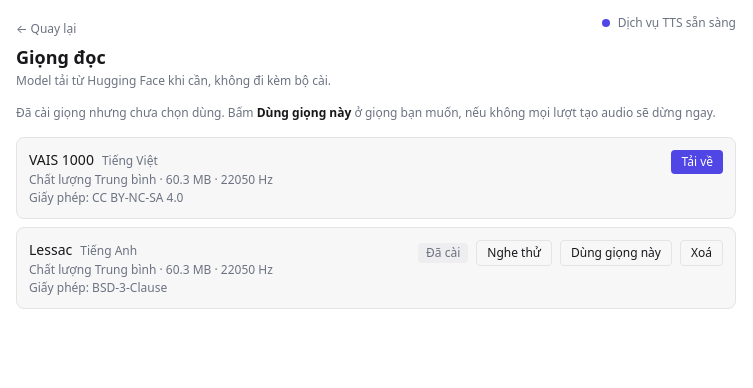
tiến độ tải › tải hỏng thì hiện lỗi cho user
Expected: the number of list items with test id "voice-row" is 2, [16,137,736,219]; [16,227,736,309]
Click the button "Tải về" at (697, 162), box [672,150,723,174]
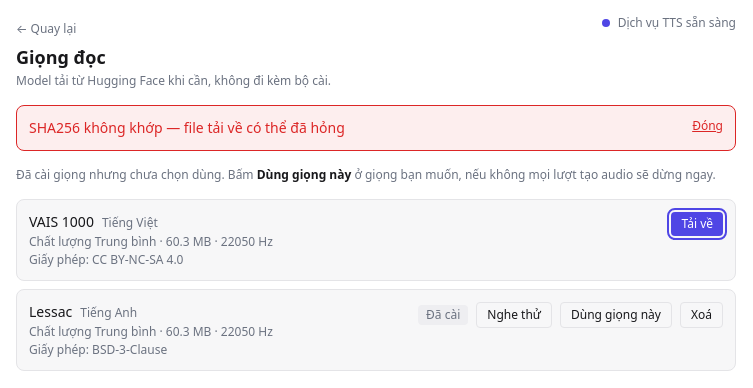
Now the message with test id "voice-error" shows "SHA256 không khớp", box [29,118,345,137]
